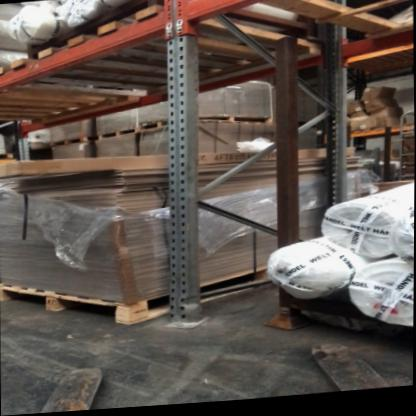vertical_damage: (162, 280, 219, 338)
